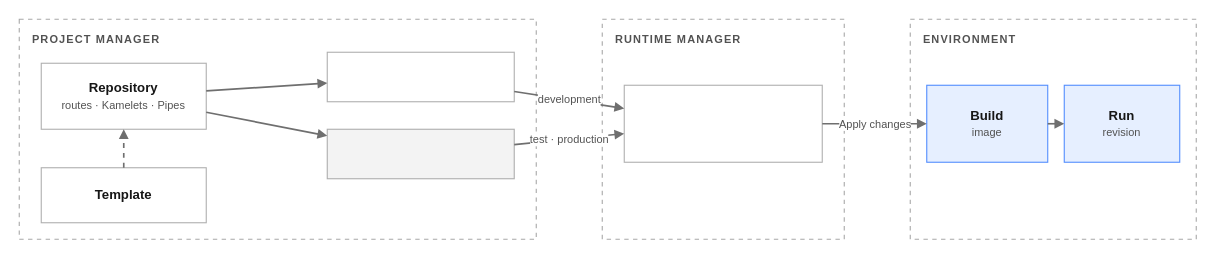
Some shapes in this 1216 by 259 pixel diagram are drawn without their labels. Here are the shapes that lost their labels. From the top down, the centre of each, then its label:
(420,76): Branch head moves
(722,123): Integration Git source
(420,153): Release tag, fixed
